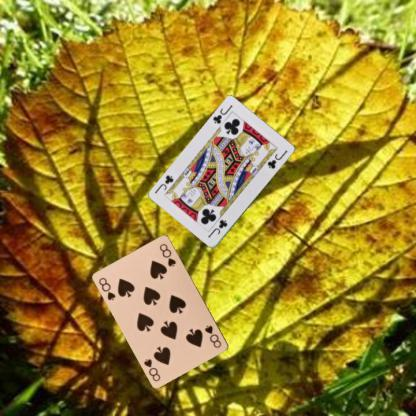8s: (96, 275, 118, 302), (202, 322, 223, 350)
Jc: (210, 102, 234, 126), (205, 217, 229, 239)
